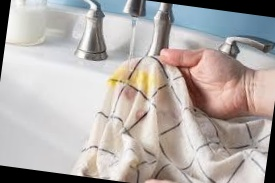mustard: (138, 69, 158, 94), (115, 67, 134, 86)
